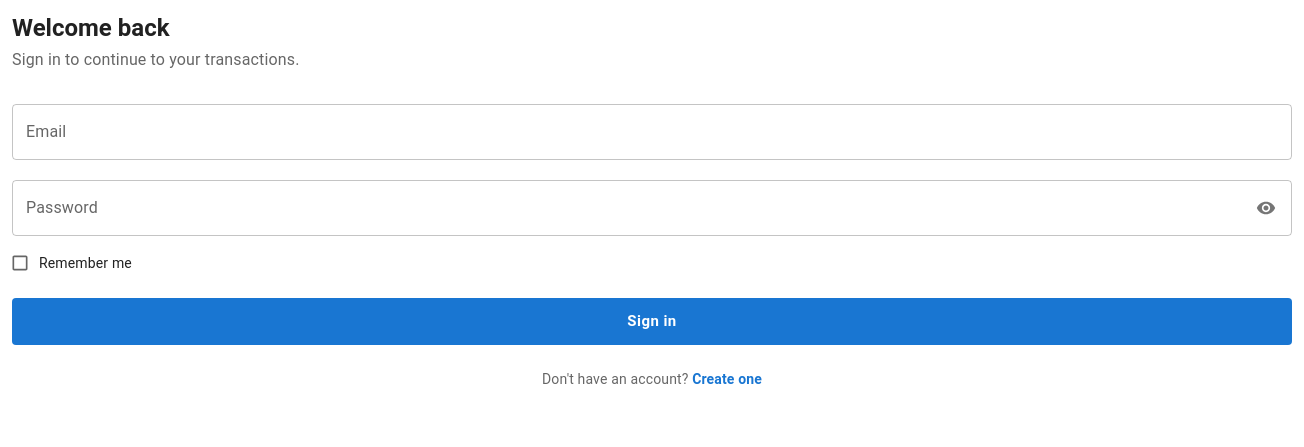
Test: Login page › validates before sending: no request for an empty or invalid form
This screenshot has width=1304, height=447.
Click the button "Sign in" at x=652, y=322, box [12,298,1292,345]
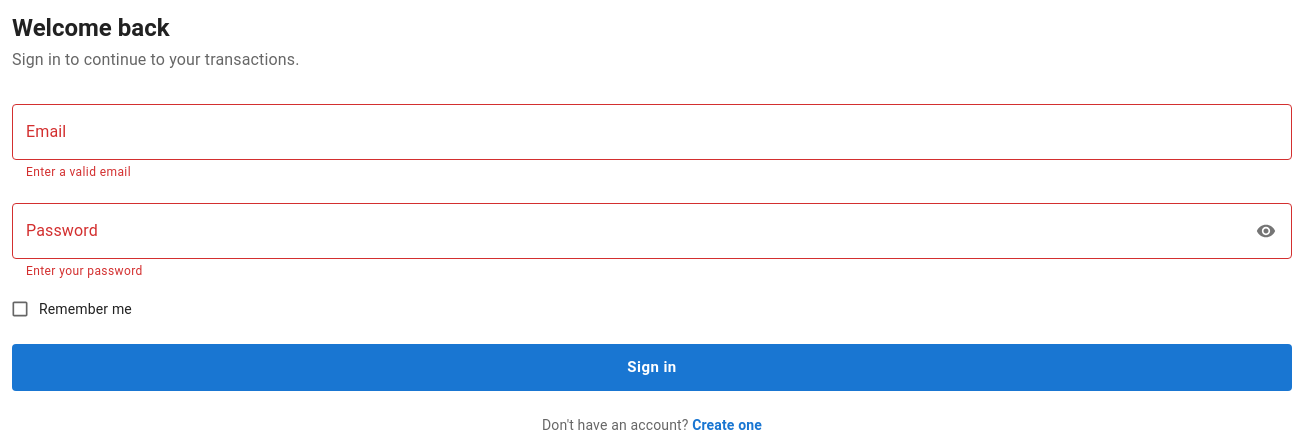
Check: the text "Enter a valid email" is shown, box [26,165,131,179]
Check: the text "Enter your password" is shown, box [26,264,143,278]
Type "not-an-email" into the field labelled "Email" at x=652, y=132, box [12,104,1292,160]
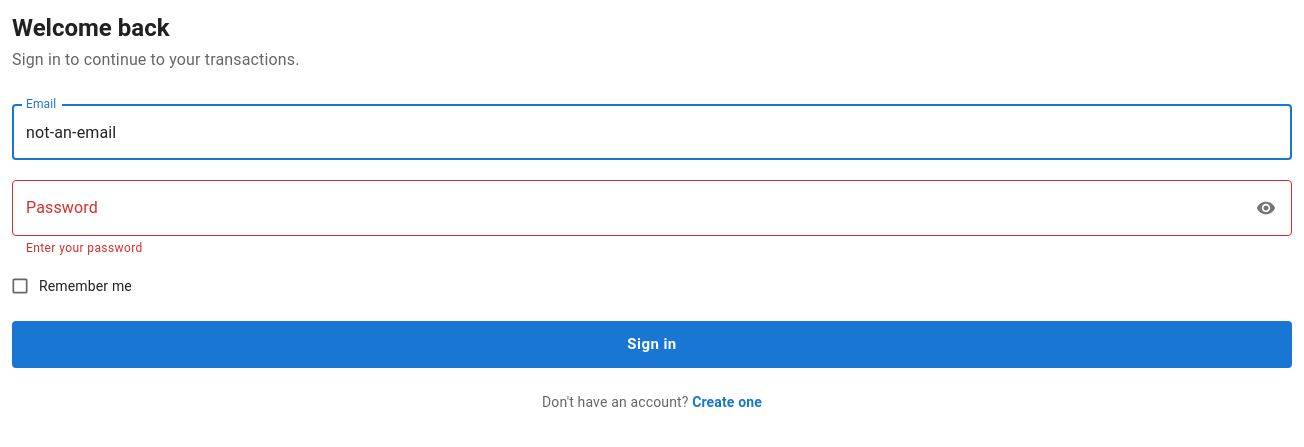
Click the button "Sign in" at x=652, y=344, box [12,321,1292,368]
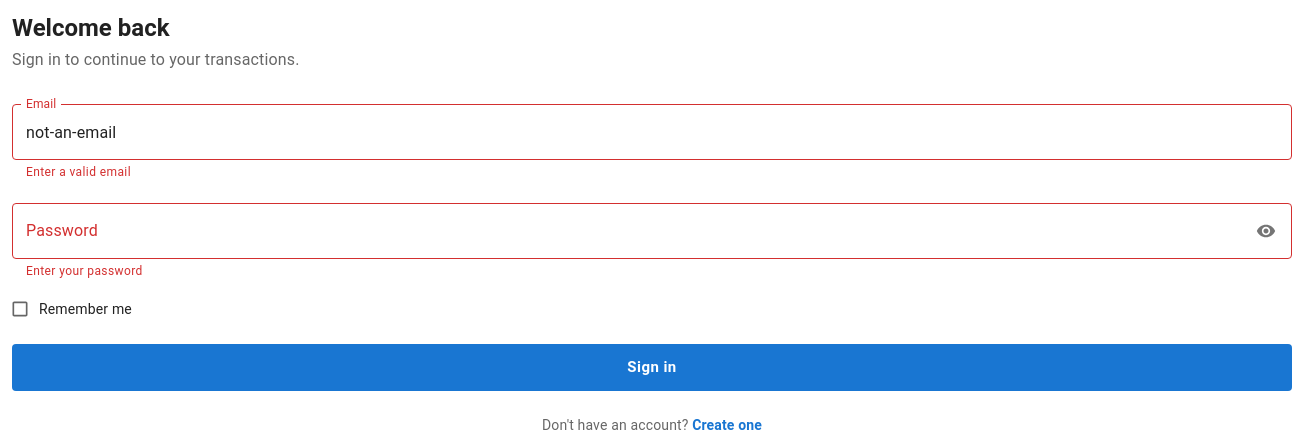
Check: the text "Enter a valid email" is shown, box [26,165,131,179]
